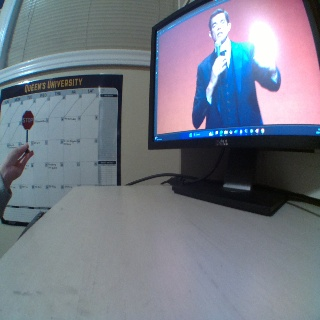sign_stop: (21, 111, 33, 129)
